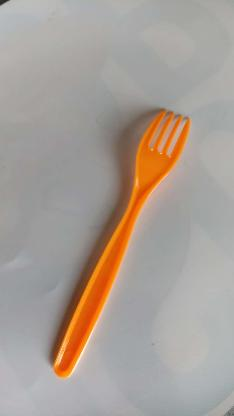Others: (52, 104, 200, 382)
